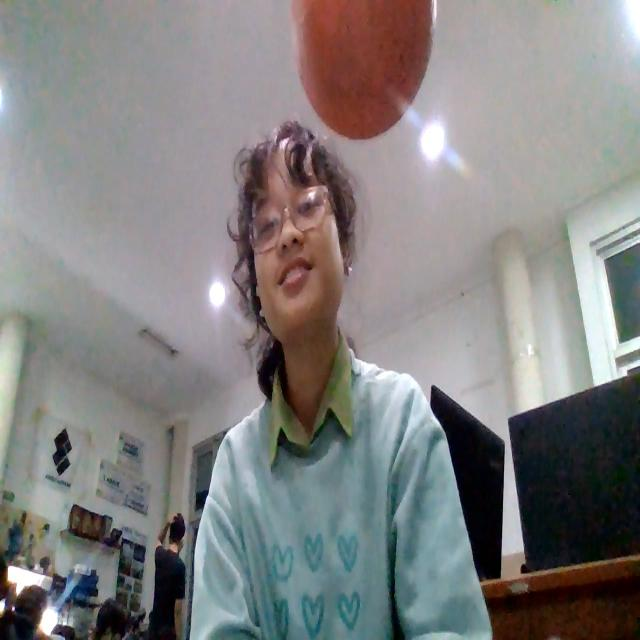ball: (292, 0, 436, 140)
